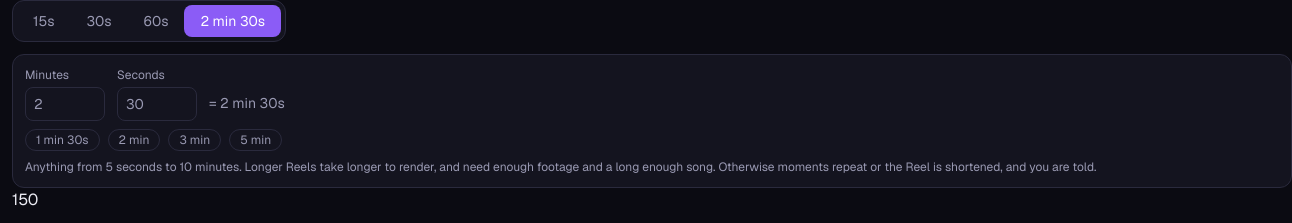
Scenario: DurationSelector: custom lengths › choosing a preset closes the custom panel
Click the radio button labelled "30s": (99, 21) [70, 5, 128, 37]
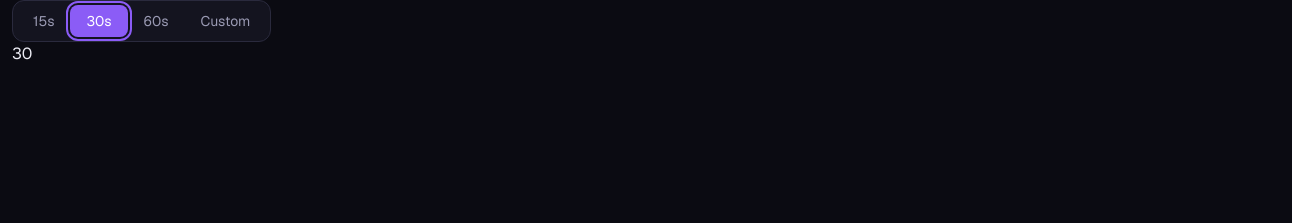
Result: the label labelled "Minutes" is gone
Result: the text named "seconds" reads "30" at [12, 43, 32, 64]
